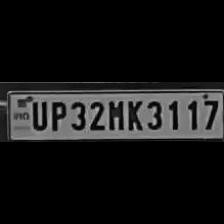1: (164, 97, 182, 130), (182, 97, 198, 130)
2: (86, 97, 106, 130)
3: (66, 97, 86, 130), (144, 97, 162, 130)
7: (199, 96, 219, 130)
K: (122, 97, 142, 130)
M: (105, 97, 124, 130)
P: (47, 97, 66, 130)
U: (28, 97, 46, 130)
